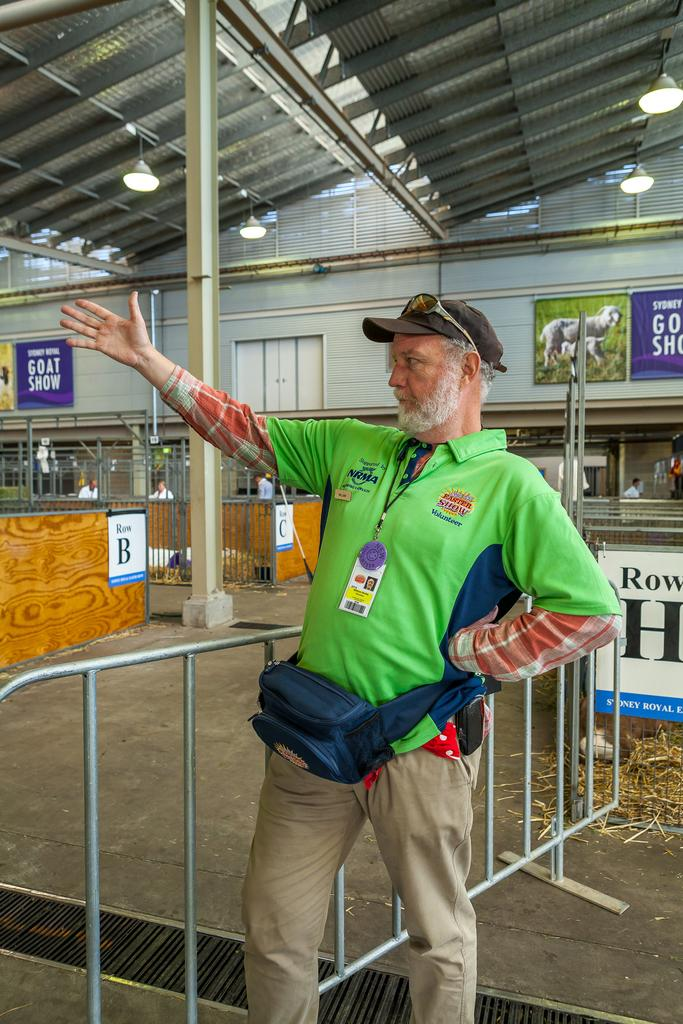Luggage-and-bags: (249, 666, 452, 791)
